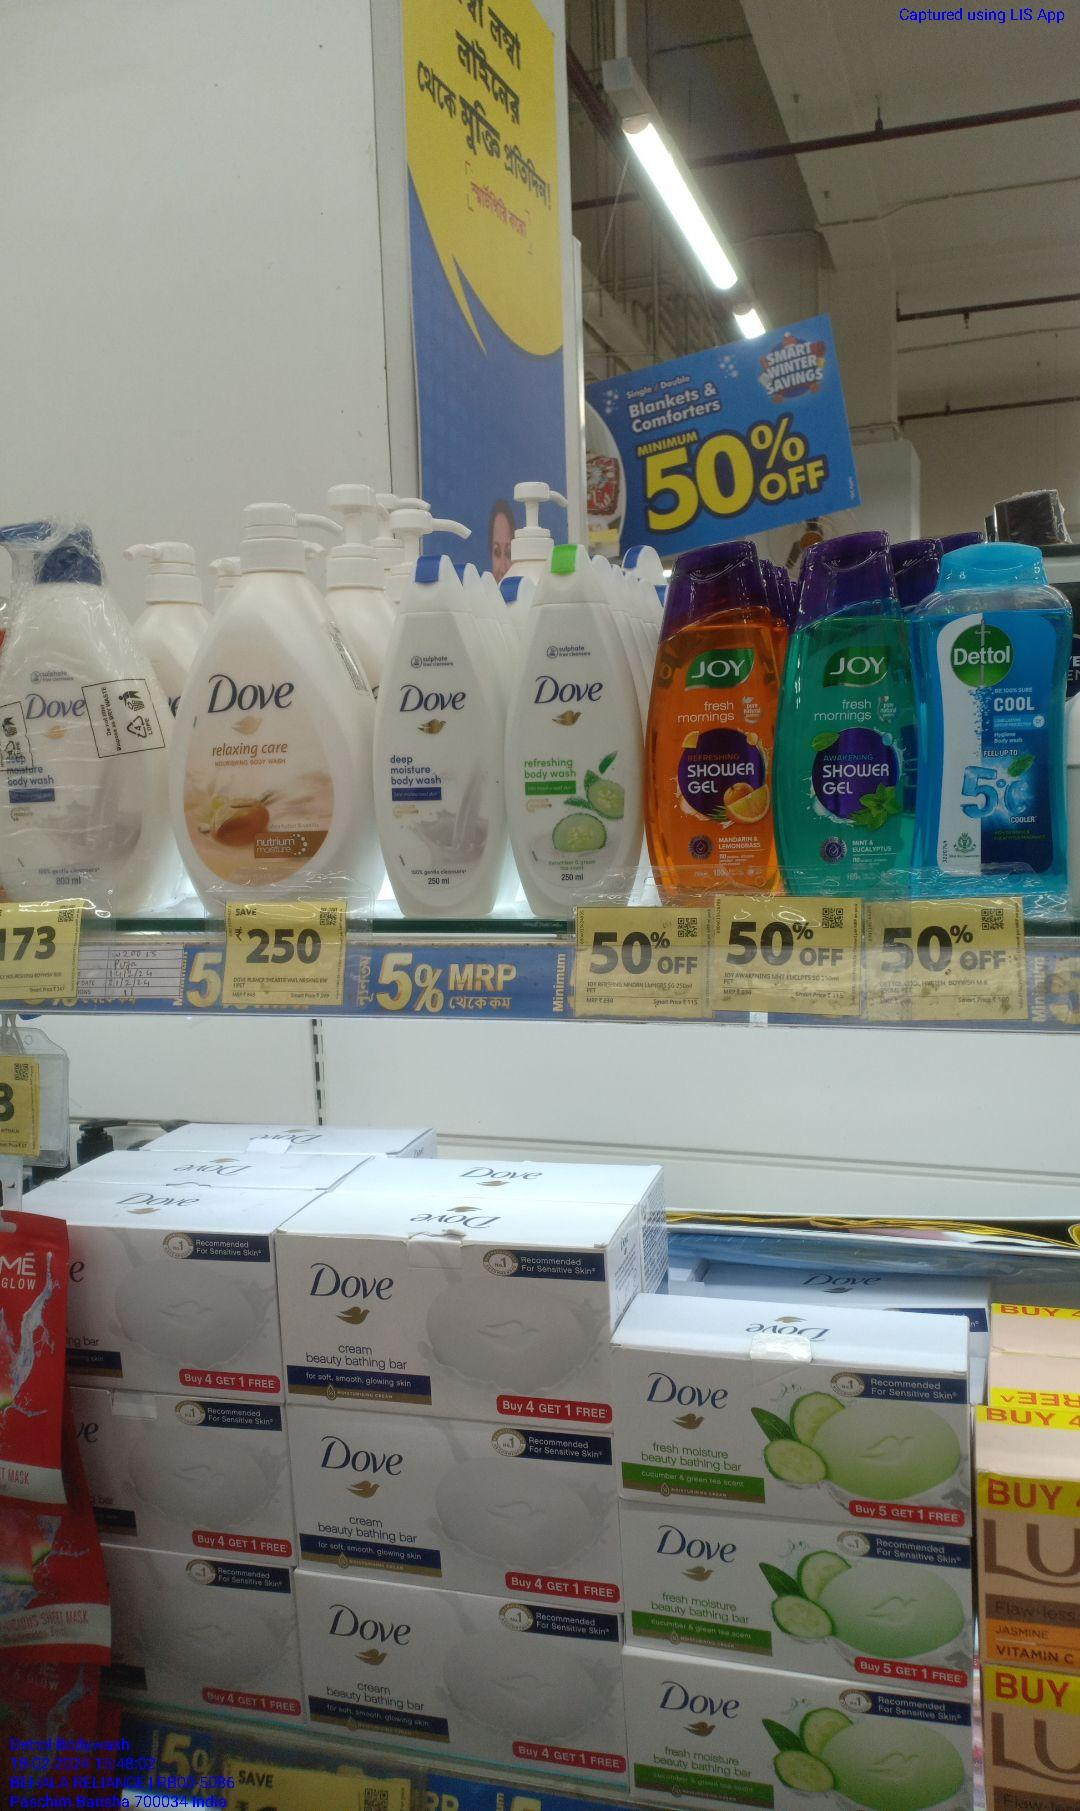Dettol_Bodywash_Cool: (917, 532, 1071, 896)
Dove_Deep_Moisture_Body_Wash_250ML: (379, 551, 512, 914)
Joy_Shower_Gel_Mandarin_and_Lemongrass_250ML: (647, 540, 770, 889)
Joy_Shower_Gel_Mint_and_Eucalyptus_250ML: (775, 531, 914, 896)
